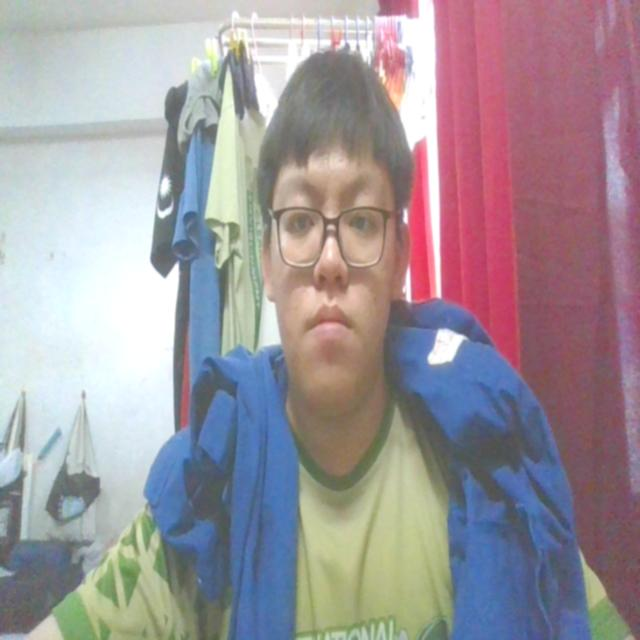person_without_labcoat: (30, 52, 628, 639)
